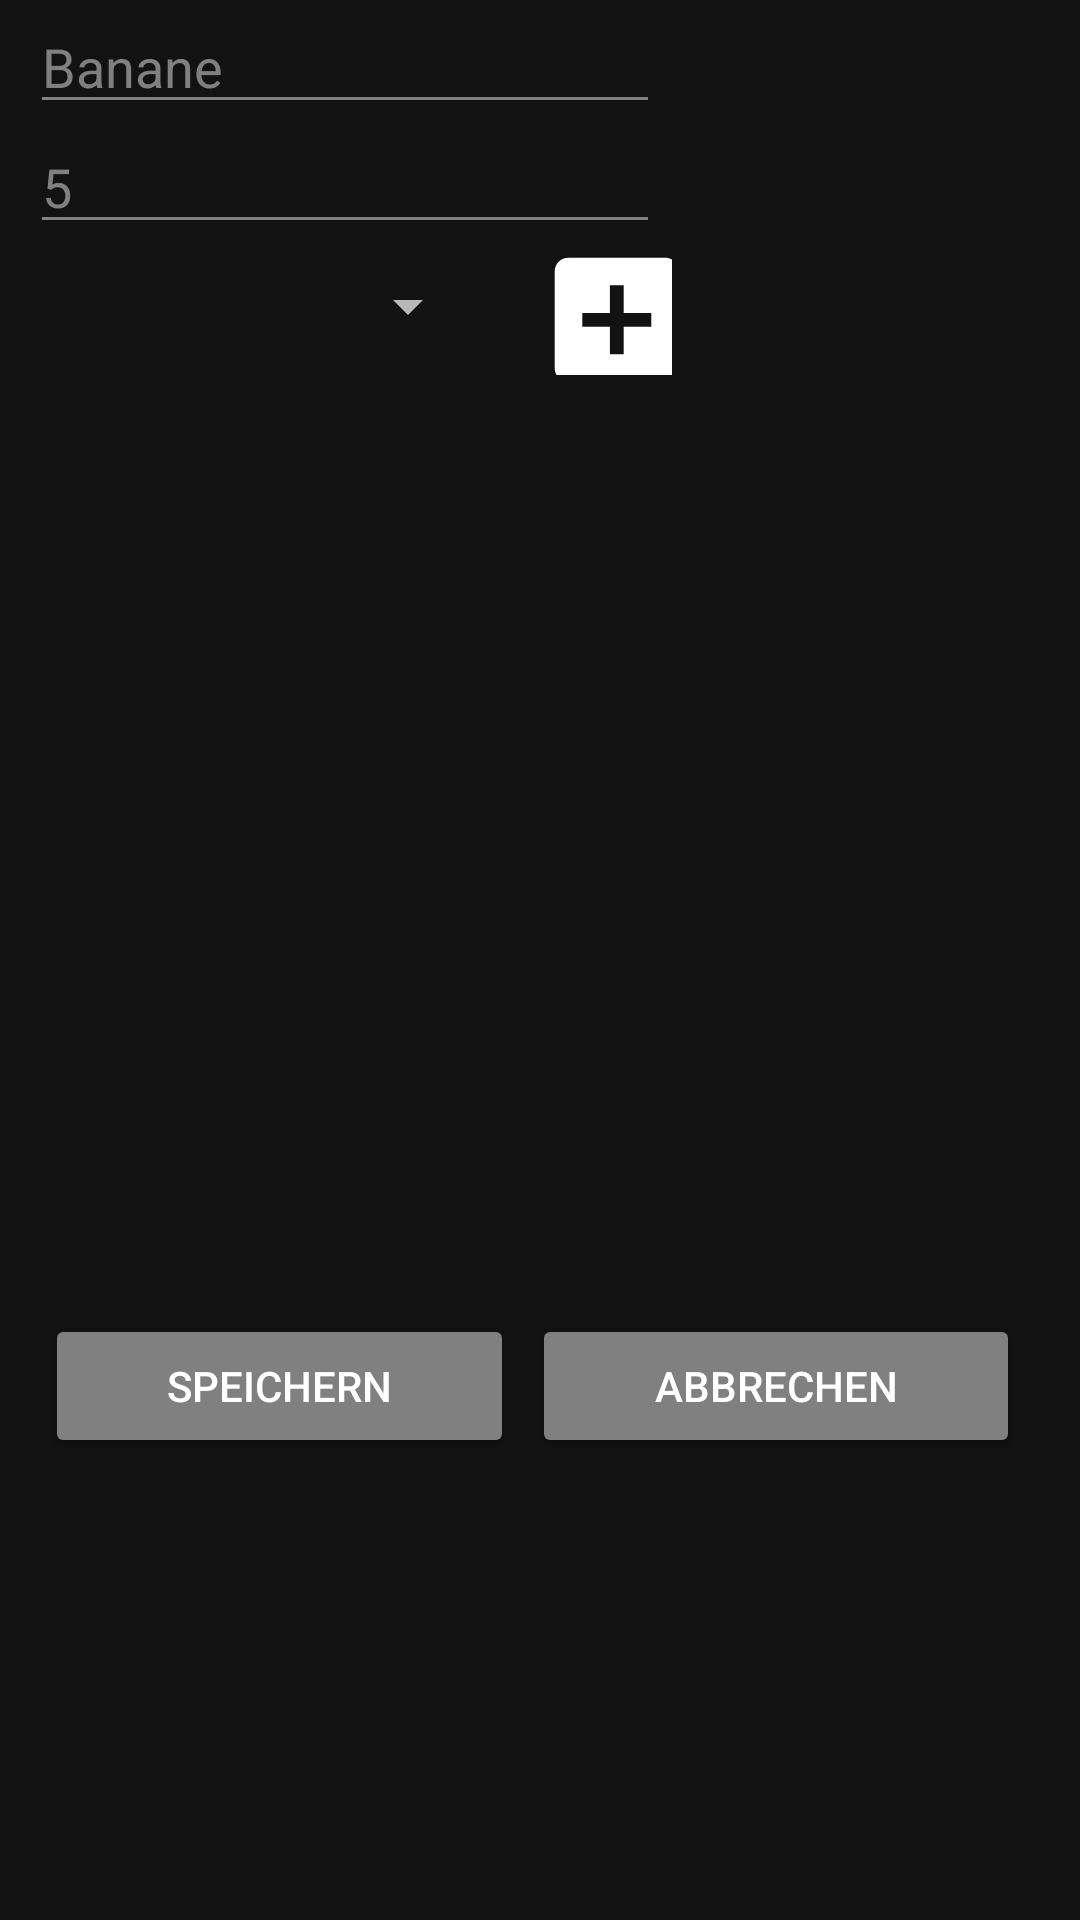

Where icons sit on this 1080 × 1920 app screen, as (x1, y1, x2, y2):
add box: (554, 257, 672, 375)
